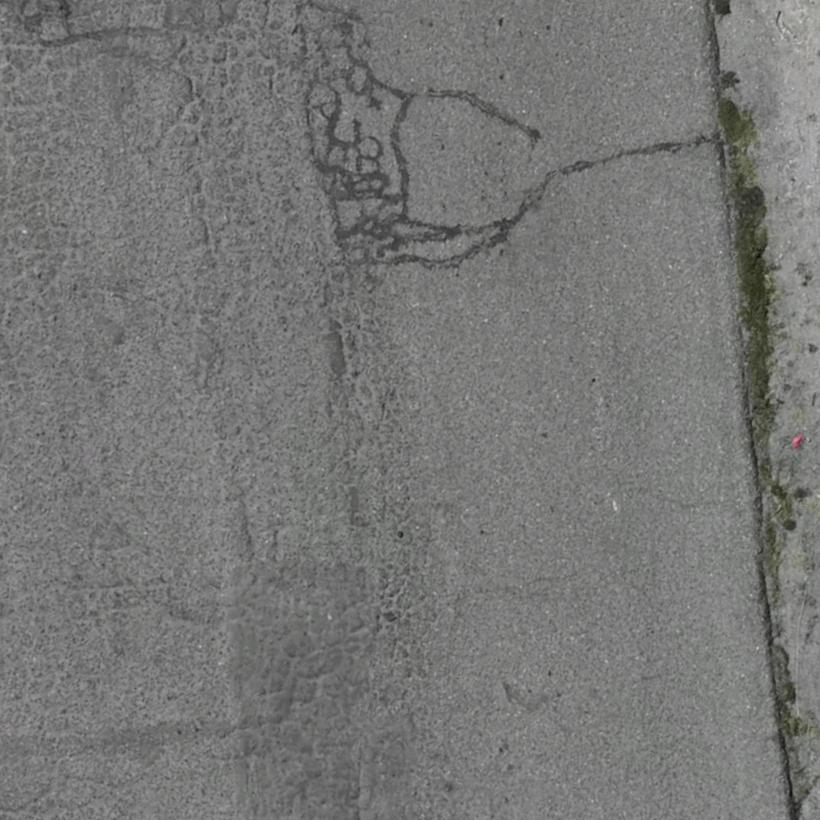GRIETA: (718, 72, 814, 819), (511, 131, 721, 226), (421, 90, 541, 149)
PIEL DE COCODRILO: (142, 0, 512, 819), (0, 0, 155, 435), (0, 498, 217, 641), (0, 733, 181, 819), (449, 562, 659, 612)
